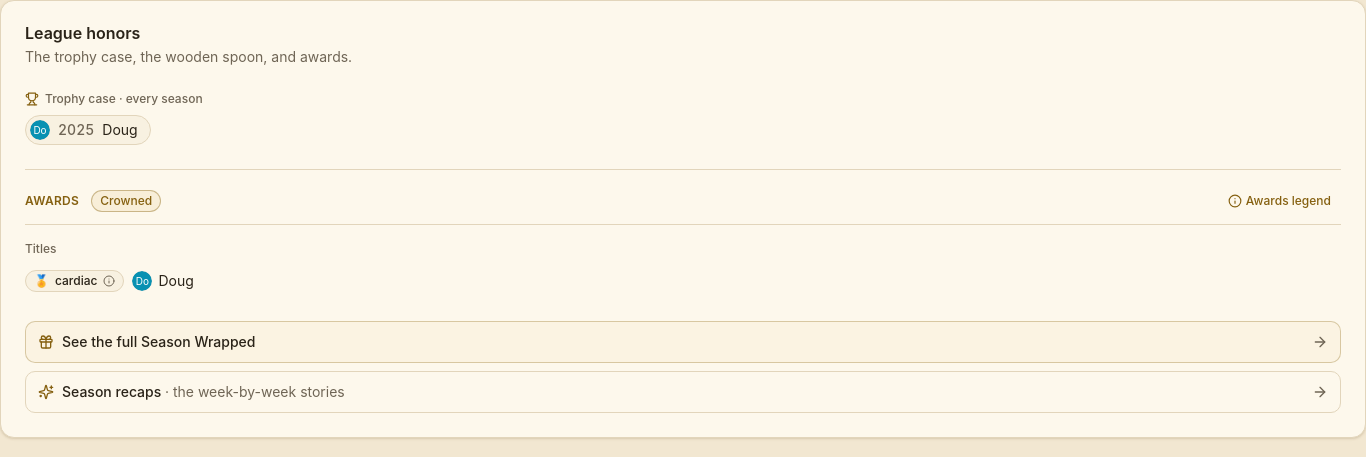
Test: LeagueHonors — tap-to-explain award popover (#881) › omits the measure block when an award has no meaningful holder stat
Click the button with test id "badge-chip-cardiac".
click(75, 281)  # box [25,265,124,297]
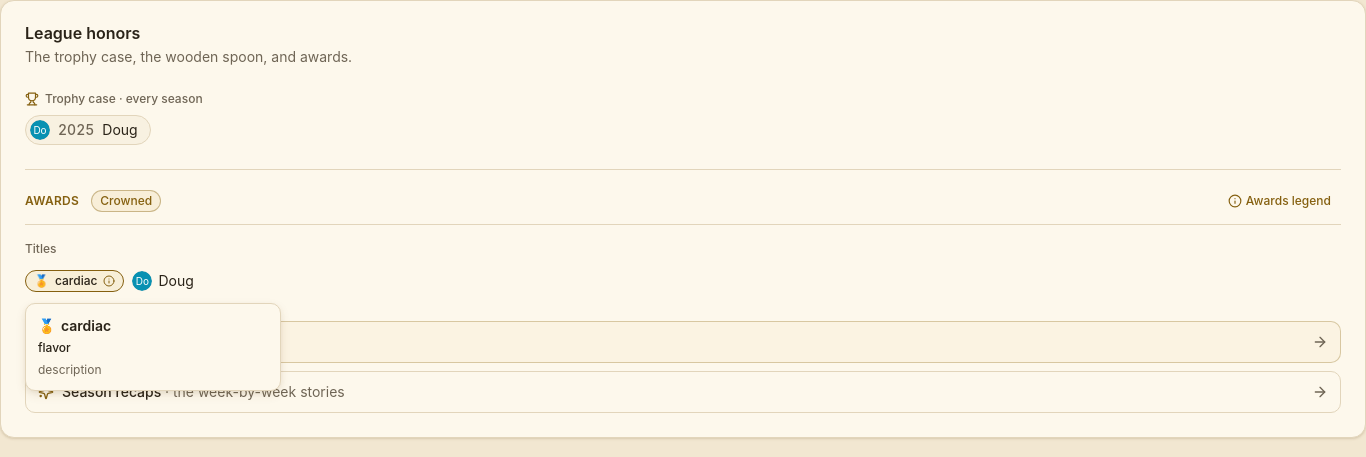
Expected: the element with test id "badge-popover-cardiac" is shown, [25,303,281,391]
